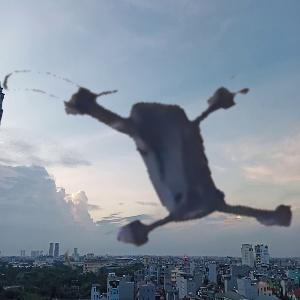drone: (2, 19, 279, 296)
